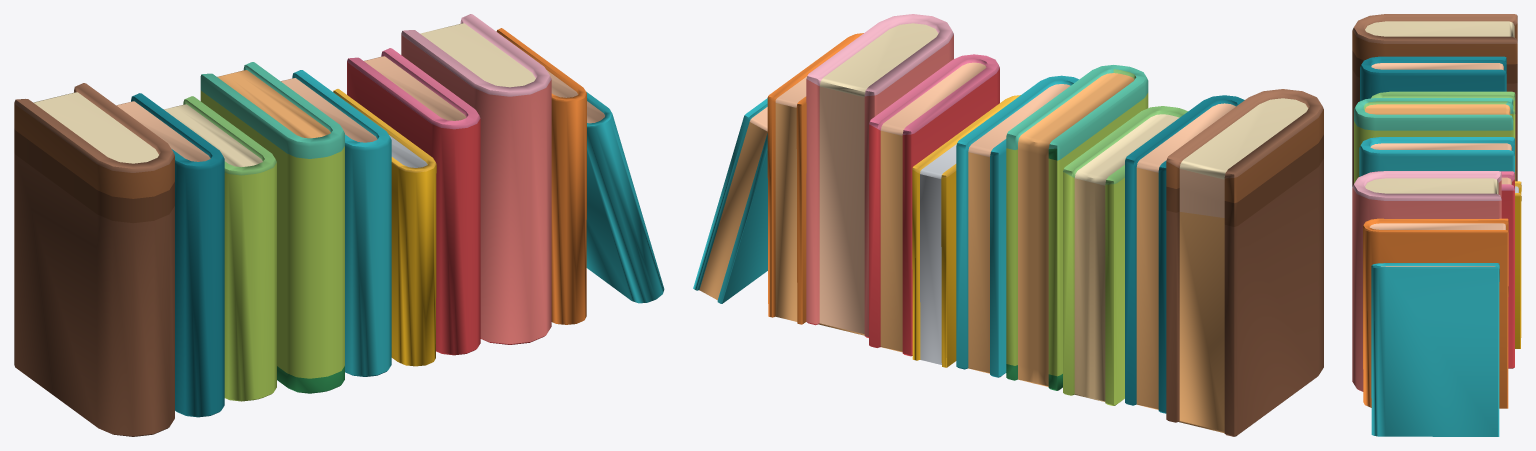
File: livros_fileira_pacote.glb
3 renders of one model, left to right at view 1: azimuth 30°, elevation 25°; view 2: azimuth 150°, elevation 25°; view 3: azimuth 270°, elevation 25°, orthographic. The views are drawn at different scales.
Visible parts, largest first — view 1: livros_fileira_pacote; view 2: livros_fileira_pacote; view 3: livros_fileira_pacote.
Boxes of the visible parts, x1,y1,x2,y2 form: livros_fileira_pacote: (14, 14, 664, 436); livros_fileira_pacote: (693, 14, 1323, 436); livros_fileira_pacote: (1352, 14, 1521, 436).
Size of the model in its own units: 0.5578 by 0.2558 by 0.1835.
1 material, 1 textured.
